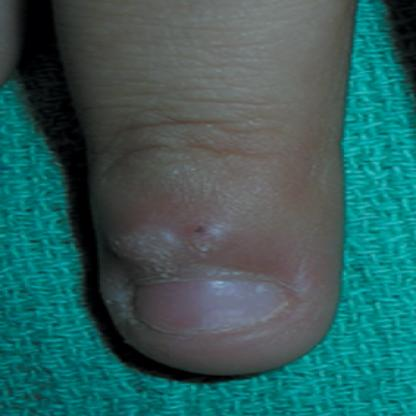Warts: (91, 207, 198, 287)
